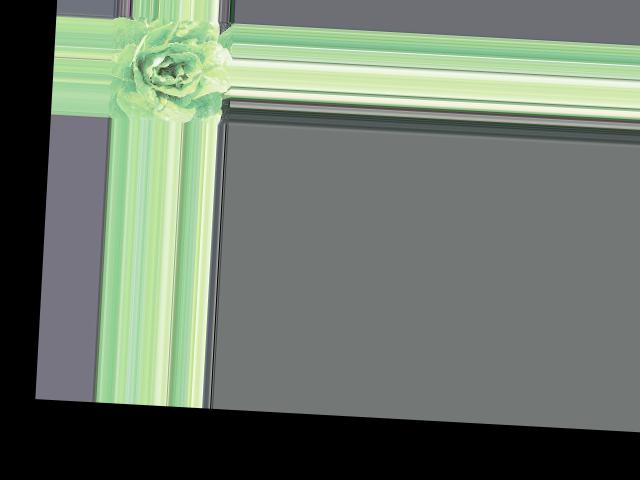lettuce: (109, 15, 229, 121)
